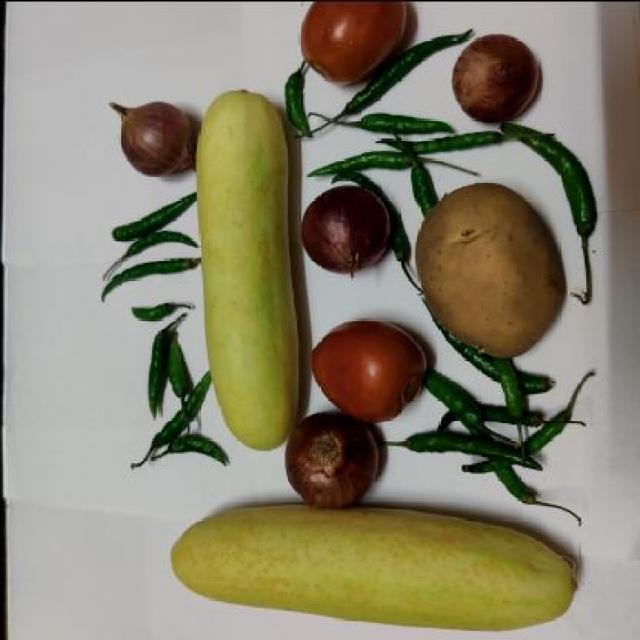Green Chili: (414, 368, 574, 500), (108, 328, 204, 478), (97, 182, 205, 290), (303, 128, 506, 178), (116, 286, 192, 329)
Onion: (298, 178, 388, 284), (288, 412, 387, 508), (451, 24, 540, 126), (102, 94, 198, 182)
Tomato: (306, 315, 429, 423), (292, 0, 410, 83)
cucumber: (167, 504, 595, 640), (192, 73, 291, 450)
